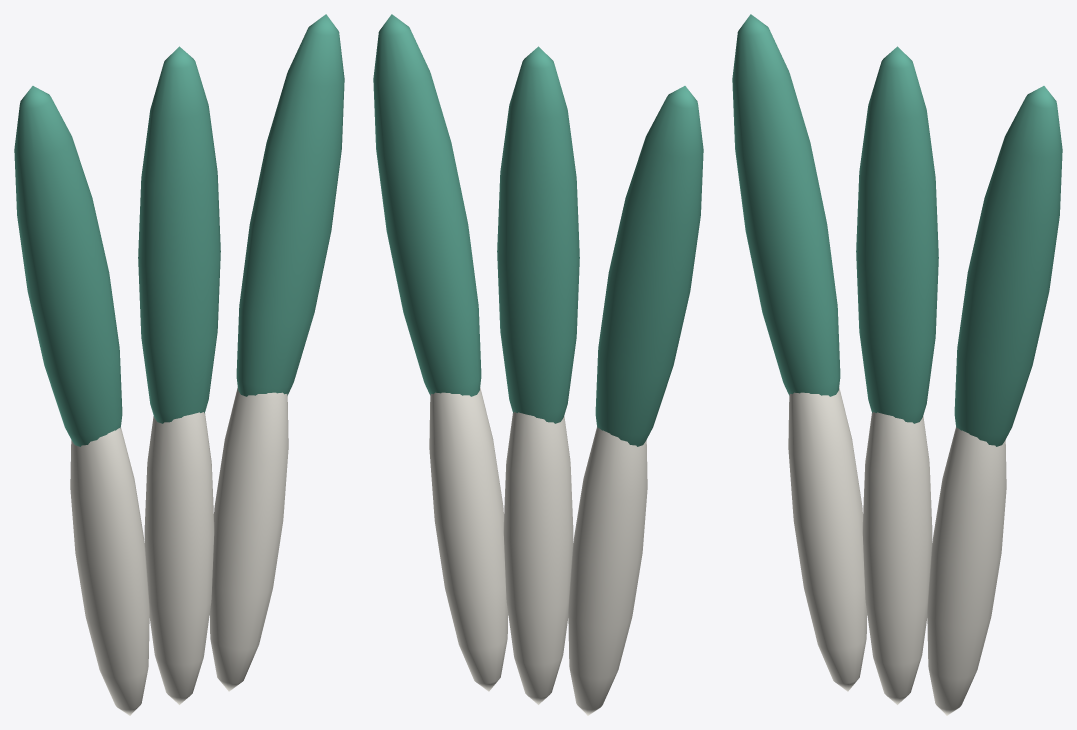
File: green-onion.glb
3 renders of one model, left to right at view 1: azimuth 30°, elevation 25°; view 2: azimuth 150°, elevation 25°; view 3: azimuth 330°, elevation 25°, orthographic.
Visible parts, largest first — view 1: green-onion; view 2: green-onion; view 3: green-onion.
Part boxes in pixels (x1,y1,x2,y2): green-onion: [14, 14, 344, 715]; green-onion: [373, 14, 703, 715]; green-onion: [732, 14, 1062, 715].
Size of the model in its own units: 0.7002 by 1.36 by 0.14.
